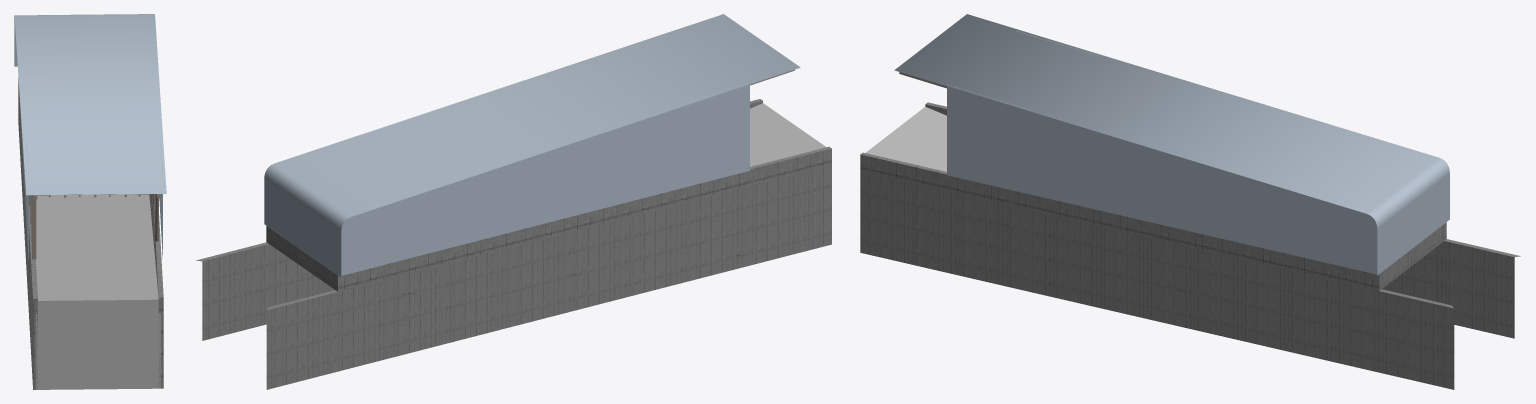
File: dixiarukou2.gltf
3 views of the same model, side by side, from view 1: azimuth 30°, elevation 25°; view 2: azimuth 150°, elevation 25°; view 3: azimuth 270°, elevation 25° (orthographic). The views are drawn at different scales.
Visible parts, largest first — view 1: Obj3d66-607053-174-173, Obj3d66-607053-173-247, Obj3d66-607053-176-62, Obj3d66-607053-172-130, Obj3d66-607053-175-462; view 2: Obj3d66-607053-174-173, Obj3d66-607053-176-62, Obj3d66-607053-172-130, Obj3d66-607053-173-247; view 3: Obj3d66-607053-174-173, Obj3d66-607053-176-62, Obj3d66-607053-172-130, Obj3d66-607053-173-247.
Boxes of the visible parts, x1=… form: Obj3d66-607053-174-173: x1=14, y1=14, x2=166, y2=259; Obj3d66-607053-173-247: x1=35, y1=194, x2=161, y2=389; Obj3d66-607053-176-62: x1=18, y1=78, x2=163, y2=389; Obj3d66-607053-172-130: x1=29, y1=194, x2=163, y2=314; Obj3d66-607053-175-462: x1=29, y1=194, x2=160, y2=259; Obj3d66-607053-174-173: x1=264, y1=14, x2=800, y2=277; Obj3d66-607053-176-62: x1=196, y1=165, x2=831, y2=389; Obj3d66-607053-172-130: x1=266, y1=99, x2=831, y2=291; Obj3d66-607053-173-247: x1=750, y1=103, x2=826, y2=166; Obj3d66-607053-174-173: x1=894, y1=14, x2=1449, y2=275; Obj3d66-607053-176-62: x1=860, y1=171, x2=1520, y2=389; Obj3d66-607053-172-130: x1=860, y1=102, x2=1446, y2=290; Obj3d66-607053-173-247: x1=866, y1=106, x2=946, y2=171.
Bounding box in the file's own units: 84.73 × 40.17 × 125.
Materials: 5 (2 with a texture image).
